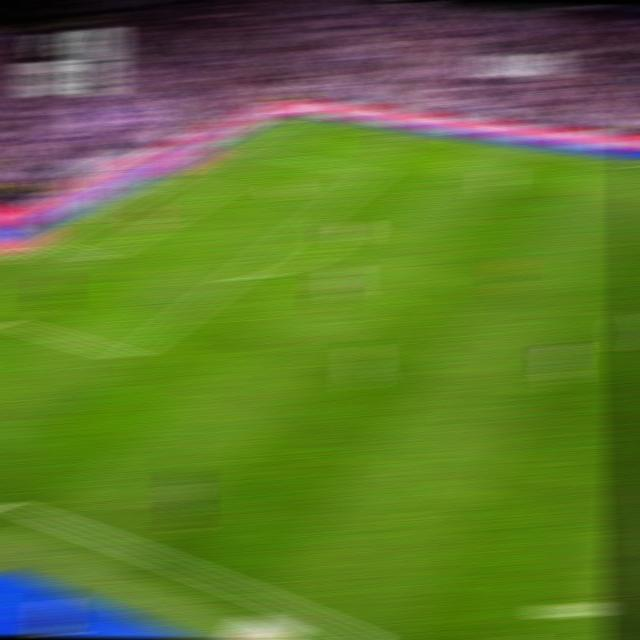bigarea_bottom_inner: (114, 344, 140, 366)
bigarea_top_inner: (363, 168, 385, 180)
bigarea_top_outter: (224, 141, 248, 152)
bottom_arc_area_intersection: (222, 268, 249, 284)
corner: (282, 112, 308, 121)
smallarea_bottom_inner: (85, 248, 110, 266)
smallarea_top_inner: (211, 183, 233, 192)
top_arc_area_intersection: (308, 207, 332, 220)
